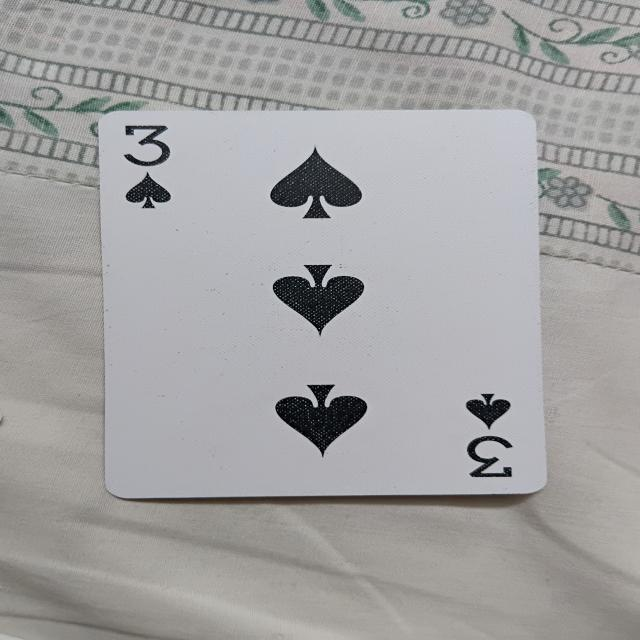3S: (111, 114, 541, 491)
